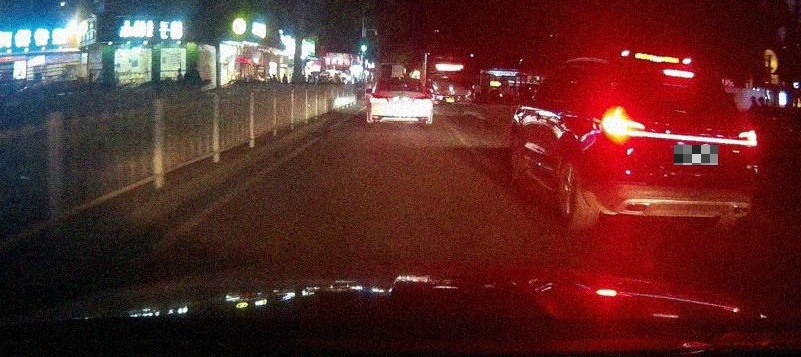L_light: (601, 109, 645, 144), (371, 91, 393, 99)
R_light: (735, 130, 758, 148), (411, 92, 431, 100)
T_light: (663, 69, 695, 79), (394, 79, 406, 82)
night-left: (576, 63, 760, 231)
night-no: (366, 77, 433, 127)
plate_1: (674, 145, 718, 165)
